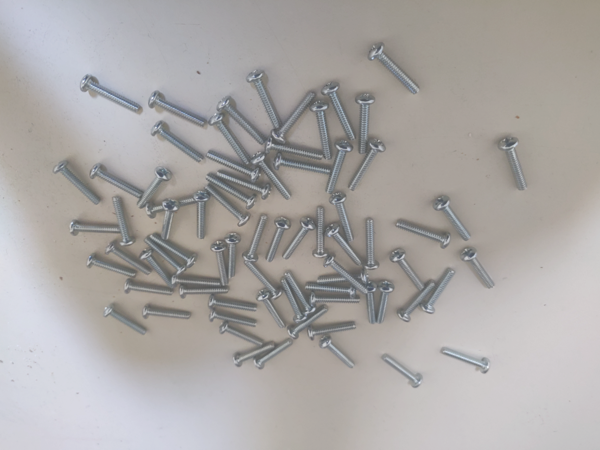longscrew: (367, 45, 423, 90), (149, 121, 203, 166), (217, 99, 268, 143), (81, 77, 138, 115), (275, 91, 315, 144), (92, 163, 142, 205), (151, 93, 206, 130), (210, 115, 252, 163), (250, 153, 291, 202), (324, 82, 359, 139), (250, 71, 285, 128), (58, 160, 96, 210), (350, 141, 385, 192), (204, 185, 247, 225), (151, 235, 202, 268), (311, 104, 341, 160), (326, 257, 370, 295), (206, 152, 262, 181), (134, 168, 172, 210), (205, 175, 256, 206), (244, 260, 285, 298), (323, 142, 354, 192), (274, 154, 331, 181), (501, 138, 531, 189), (422, 269, 456, 314), (398, 283, 436, 323), (102, 305, 146, 339), (436, 197, 471, 239), (396, 221, 448, 249), (144, 239, 186, 273), (327, 226, 363, 265), (107, 244, 148, 278), (391, 251, 427, 289), (284, 218, 317, 259), (143, 195, 204, 217), (263, 220, 296, 260), (142, 252, 175, 292), (286, 274, 318, 315), (216, 172, 273, 195), (267, 139, 321, 163), (289, 306, 329, 338), (463, 250, 497, 287), (110, 198, 136, 246), (444, 350, 491, 375), (383, 357, 422, 387), (330, 196, 357, 239), (281, 280, 309, 321), (320, 337, 356, 368), (244, 215, 267, 261), (357, 95, 374, 157), (259, 293, 287, 330), (86, 258, 133, 280), (255, 343, 294, 369), (220, 325, 264, 348), (208, 295, 258, 314), (207, 311, 255, 330), (212, 240, 230, 288), (303, 283, 356, 299), (143, 305, 190, 323), (123, 282, 174, 298), (236, 344, 272, 366), (307, 323, 356, 339), (363, 219, 378, 270), (163, 193, 178, 243), (170, 275, 221, 289), (317, 207, 330, 259), (308, 295, 359, 307), (363, 284, 378, 324), (227, 230, 239, 279), (196, 188, 207, 239), (378, 283, 392, 323), (316, 277, 369, 286), (178, 287, 229, 296)
